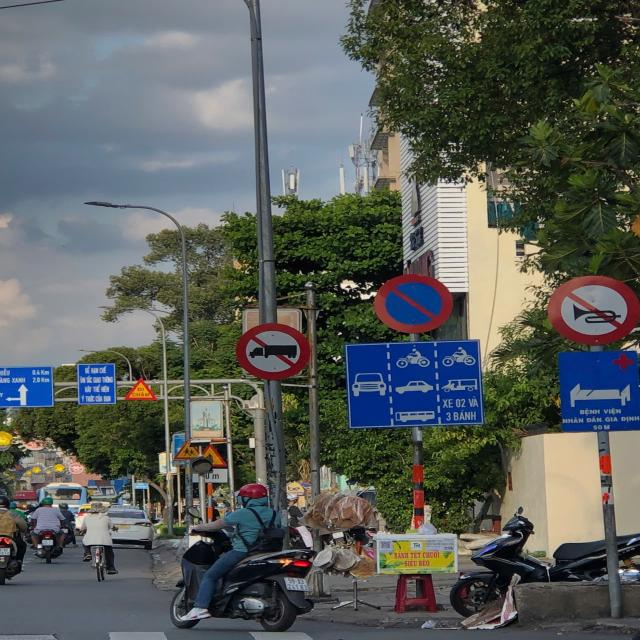Bien bao cam do xe: (367, 264, 465, 342)
Bien bao cam xe so-mi ro-mooc: (224, 314, 316, 385)
